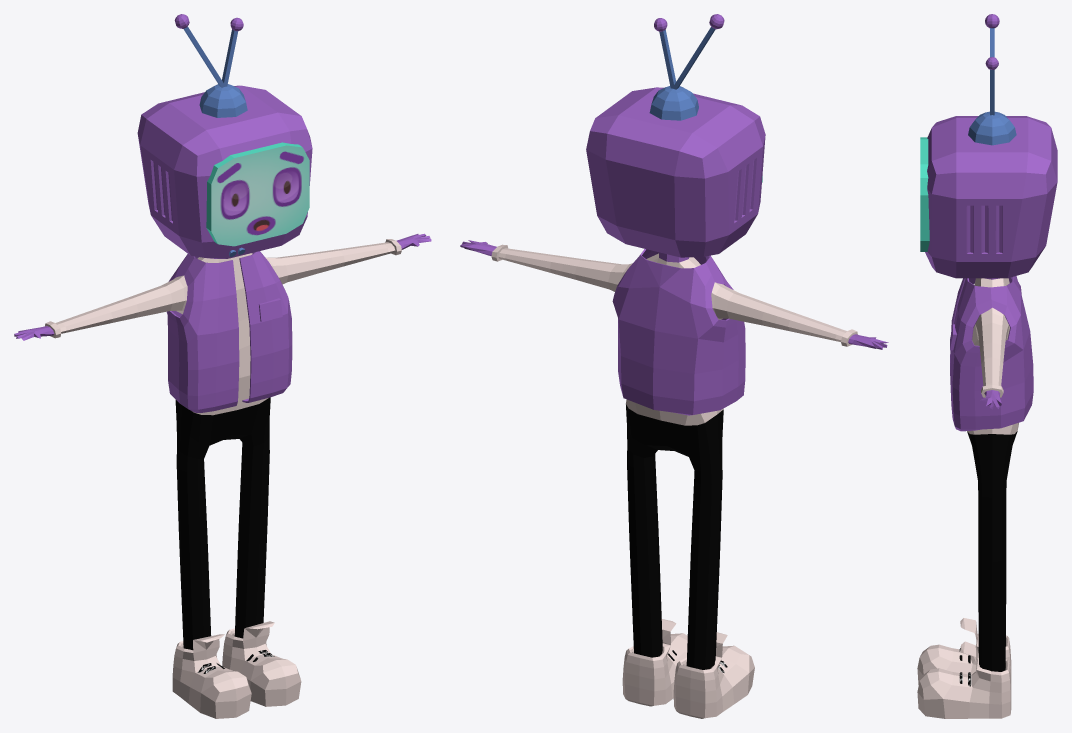
The model's file is staff.fbx.
3 views of the same model, side by side, from view 1: azimuth 30°, elevation 25°; view 2: azimuth 150°, elevation 25°; view 3: azimuth 270°, elevation 25° (orthographic). The views are drawn at different scales.
Parts seen in each view (by area): view 1: body.003; view 2: body.003; view 3: body.003.
Boxes of the visible parts, <box> form: body.003: <box>14,14,431,718</box>; body.003: <box>460,14,888,718</box>; body.003: <box>917,14,1057,718</box>.
Size of the model in its own units: 273 by 430 by 82.11.
